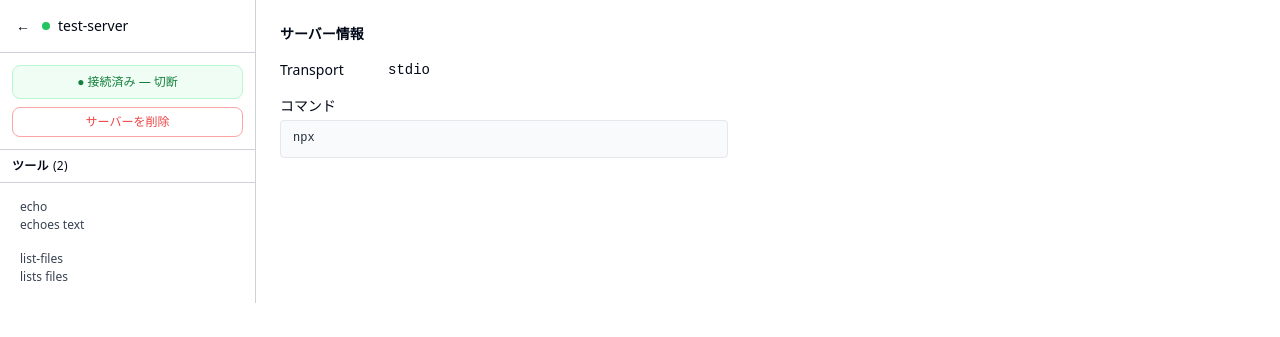
it: ToolsView › shows execution panel when a tool is selected
Click the button "echo echoes text".
click(128, 216)  # box [8,191,247,241]
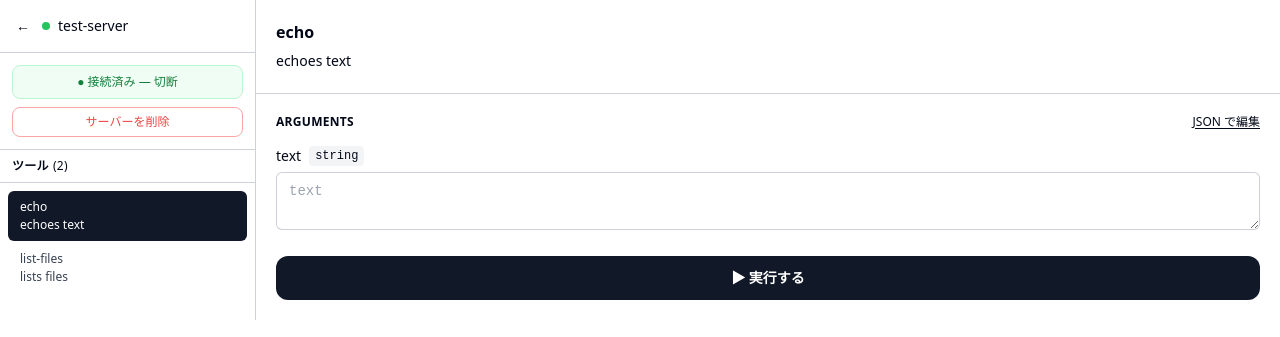
Now the text box with placeholder "text" is shown, box [276,172,1260,230]
